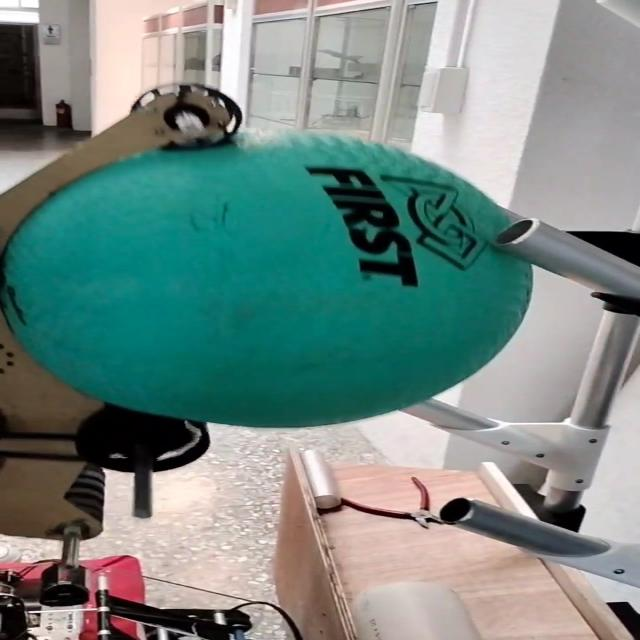ALGAE: (12, 126, 535, 427)
CORAL: (335, 573, 489, 640)
